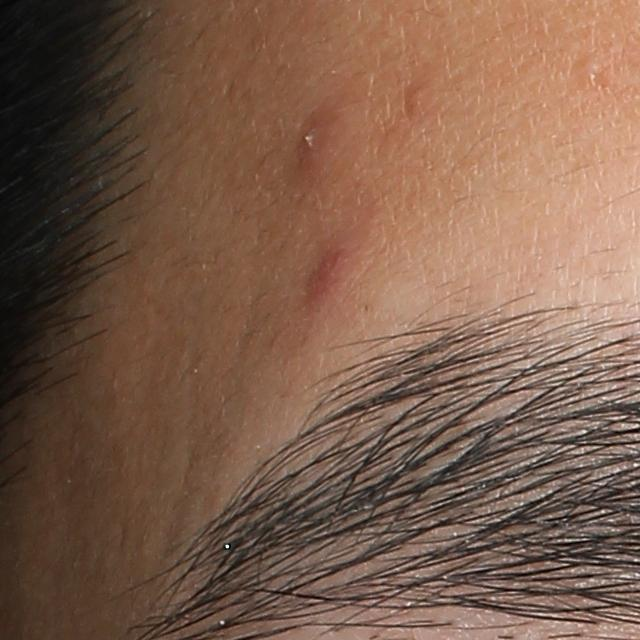papule: (302, 240, 361, 295)
